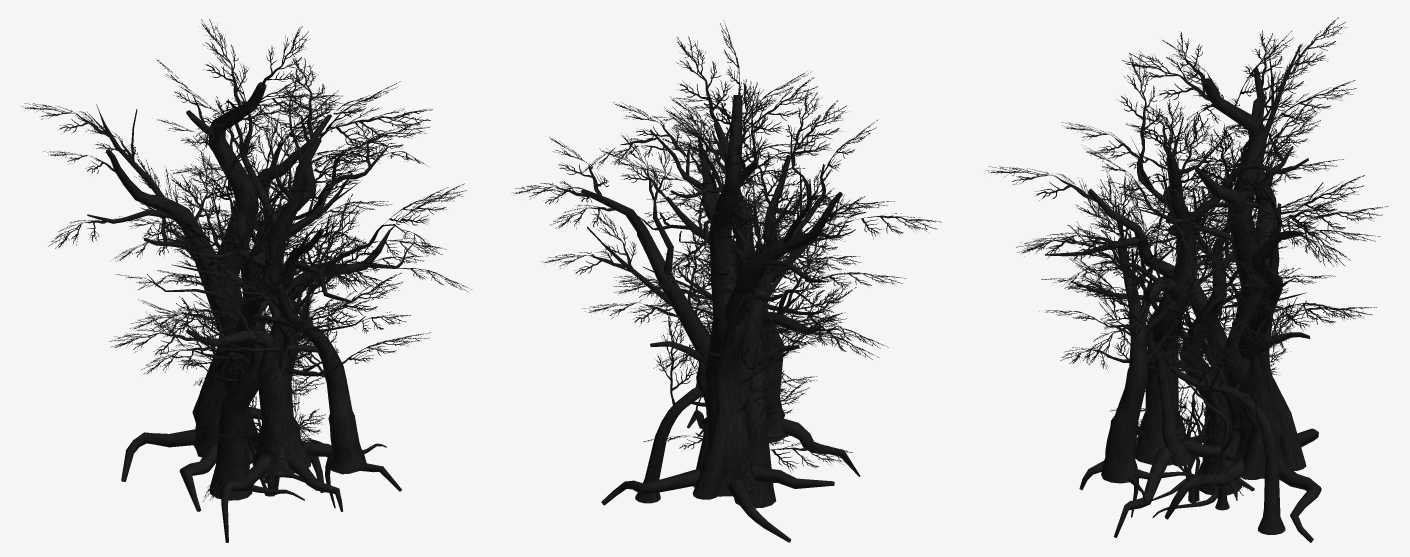
Rendered from deadtrees.glb.
3 views of the same model, side by side, from view 1: azimuth 30°, elevation 25°; view 2: azimuth 150°, elevation 25°; view 3: azimuth 270°, elevation 25° (orthographic). The views are drawn at different scales.
Visible parts, largest first — view 1: tree6_bark_0, branch_4_deadbranch_0, tree5_bark_0, branch_3_deadbranch_0, branch__deadbranch_0, tree2_bark_0, tree1_bark_0, branch_deadbranch_0, branch_5_deadbranch_0, branch_2_deadbranch_0; view 2: tree6_bark_0, branch_4_deadbranch_0, branch_3_deadbranch_0, tree5_bark_0, branch__deadbranch_0, tree2_bark_0, branch_2_deadbranch_0, branch_deadbranch_0, tree4_bark_0, branch_5_deadbranch_0, tree1_bark_0, branch__2_deadbranch_0; view 3: tree6_bark_0, branch_4_deadbranch_0, tree5_bark_0, branch_3_deadbranch_0, branch__deadbranch_0, tree1_bark_0, tree2_bark_0, branch_deadbranch_0, tree4_bark_0, branch_2_deadbranch_0, branch_5_deadbranch_0, branch__2_deadbranch_0 (+2 smaller).
Boxes of the visible parts, <box> form: tree6_bark_0: <box>86,82,359,511</box>; branch_4_deadbranch_0: <box>21,19,432,376</box>; tree5_bark_0: <box>147,88,413,542</box>; branch_3_deadbranch_0: <box>109,48,472,374</box>; branch__deadbranch_0: <box>164,117,431,380</box>; tree2_bark_0: <box>171,186,365,500</box>; tree1_bark_0: <box>201,228,386,508</box>; branch_deadbranch_0: <box>176,198,376,386</box>; branch_5_deadbranch_0: <box>195,312,325,501</box>; branch_2_deadbranch_0: <box>146,296,318,379</box>; tree6_bark_0: <box>581,95,842,542</box>; branch_4_deadbranch_0: <box>511,20,905,414</box>; branch_3_deadbranch_0: <box>582,36,941,359</box>; tree5_bark_0: <box>638,121,866,476</box>; branch__deadbranch_0: <box>613,140,820,389</box>; tree2_bark_0: <box>643,193,778,508</box>; branch_2_deadbranch_0: <box>654,226,856,404</box>; branch_deadbranch_0: <box>639,165,847,351</box>; tree4_bark_0: <box>635,298,833,503</box>; branch_5_deadbranch_0: <box>643,371,852,473</box>; tree1_bark_0: <box>691,186,855,436</box>; branch__2_deadbranch_0: <box>690,275,817,391</box>; tree6_bark_0: <box>1045,44,1321,542</box>; branch_4_deadbranch_0: <box>985,17,1387,365</box>; tree5_bark_0: <box>1079,117,1323,537</box>; branch_3_deadbranch_0: <box>1021,53,1350,371</box>; branch__deadbranch_0: <box>1039,124,1322,372</box>; tree1_bark_0: <box>1101,202,1248,517</box>; tree2_bark_0: <box>1100,204,1241,517</box>; branch_deadbranch_0: <box>1074,159,1302,377</box>; tree4_bark_0: <box>1102,303,1285,534</box>; branch_2_deadbranch_0: <box>1066,251,1306,422</box>; branch_5_deadbranch_0: <box>1109,340,1267,496</box>; branch__2_deadbranch_0: <box>1148,311,1229,429</box>.
Size of the model in its own units: 11.92 by 14 by 10.91.
2 materials, 2 textured.
